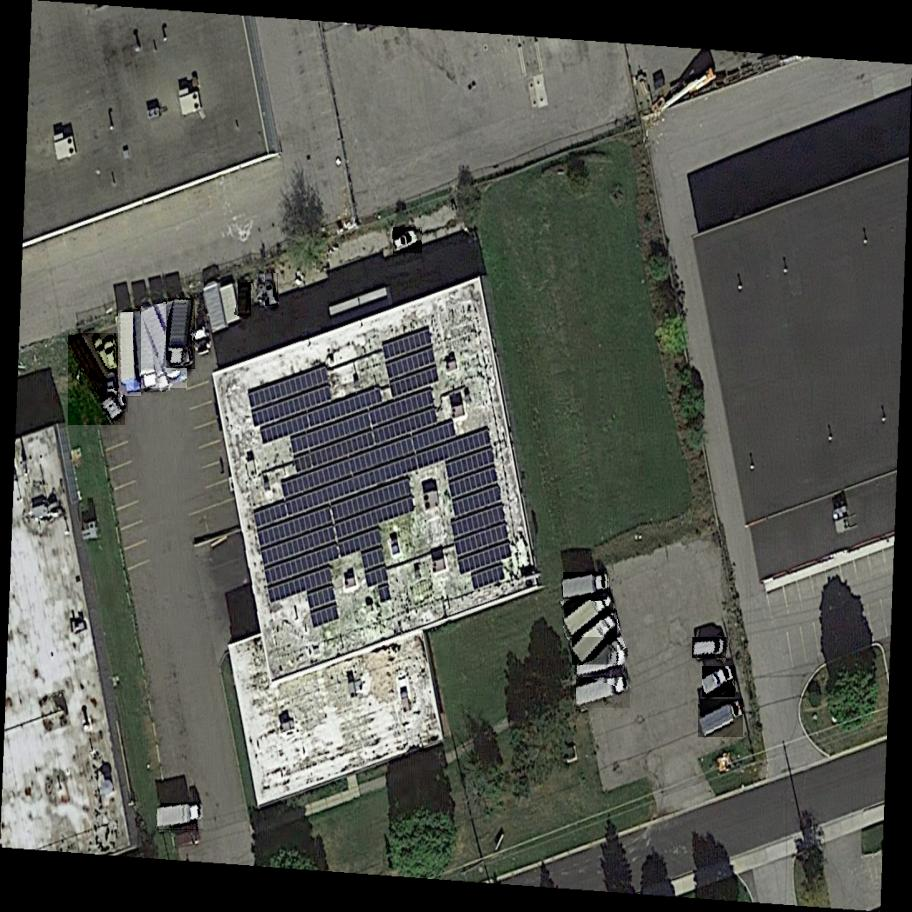large-vehicle: (67, 333, 128, 425), (140, 304, 188, 389), (570, 610, 622, 665), (562, 589, 616, 637), (134, 309, 160, 392), (167, 298, 195, 370), (574, 676, 634, 709), (696, 699, 747, 737), (118, 312, 141, 396), (574, 649, 629, 677), (154, 803, 205, 830), (560, 573, 611, 599), (701, 666, 739, 698), (238, 282, 252, 316)
small-vehicle: (392, 228, 424, 255), (109, 375, 129, 413), (102, 340, 123, 375), (691, 638, 727, 658), (265, 273, 279, 307)
